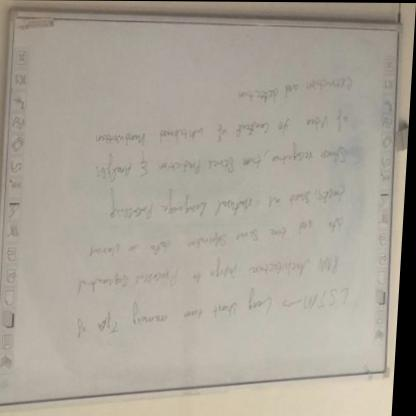Handwritten text: (71, 277, 360, 348), (100, 165, 357, 235), (73, 242, 352, 304), (94, 132, 356, 187), (89, 100, 365, 152), (83, 210, 354, 262), (227, 57, 365, 112)
Whiteboard: (0, 16, 402, 416)
